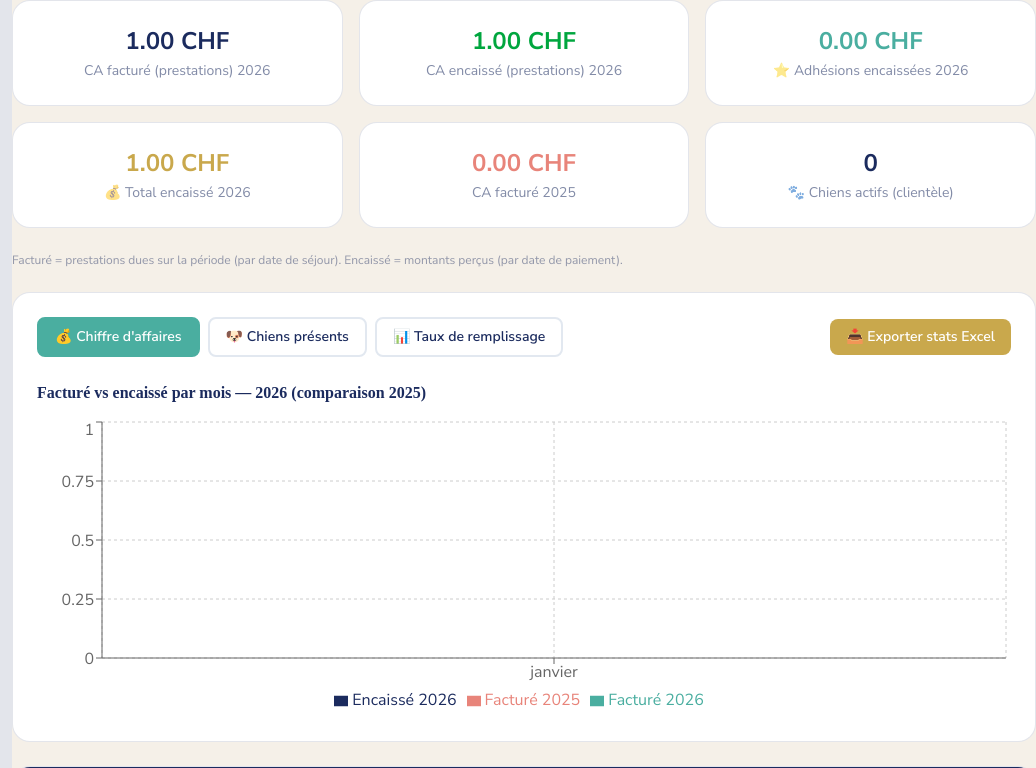
Scenario: Export Excel des statistiques › le module ne se charge pas : phrase dédiée, bouton de nouveau cliquable
Click the button "📥 Exporter stats Excel" at [921, 337], box [830,319,1011,355]
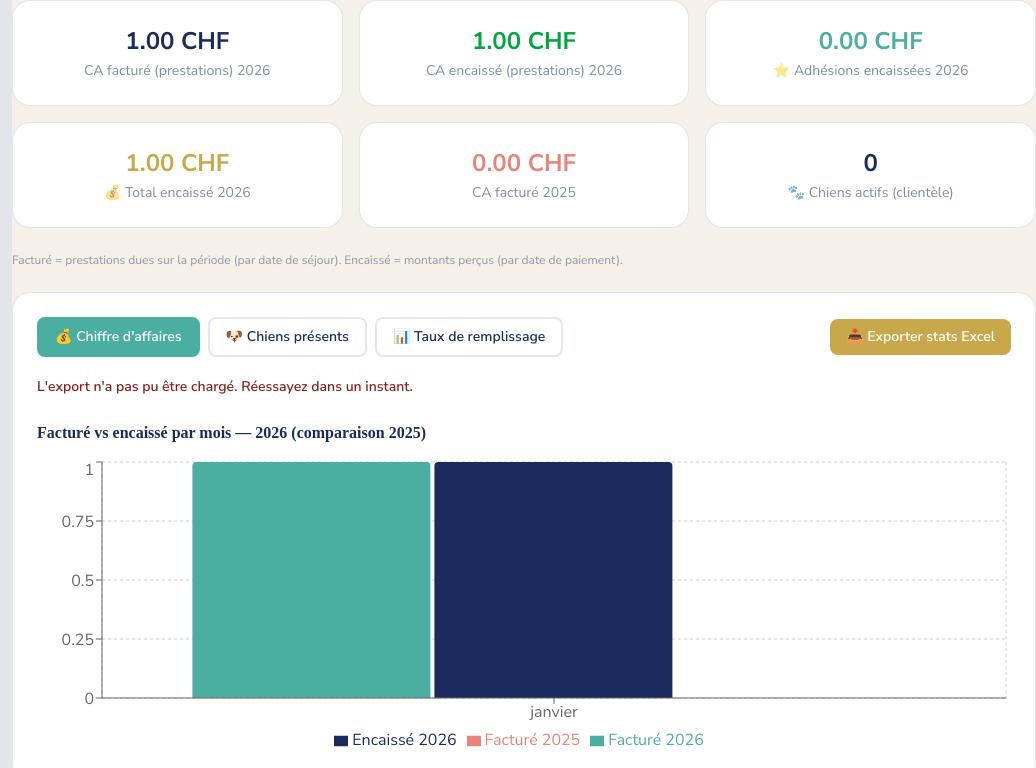
Result: the message shows "L'export n'a pas pu être chargé." at [37,377,413,396]
